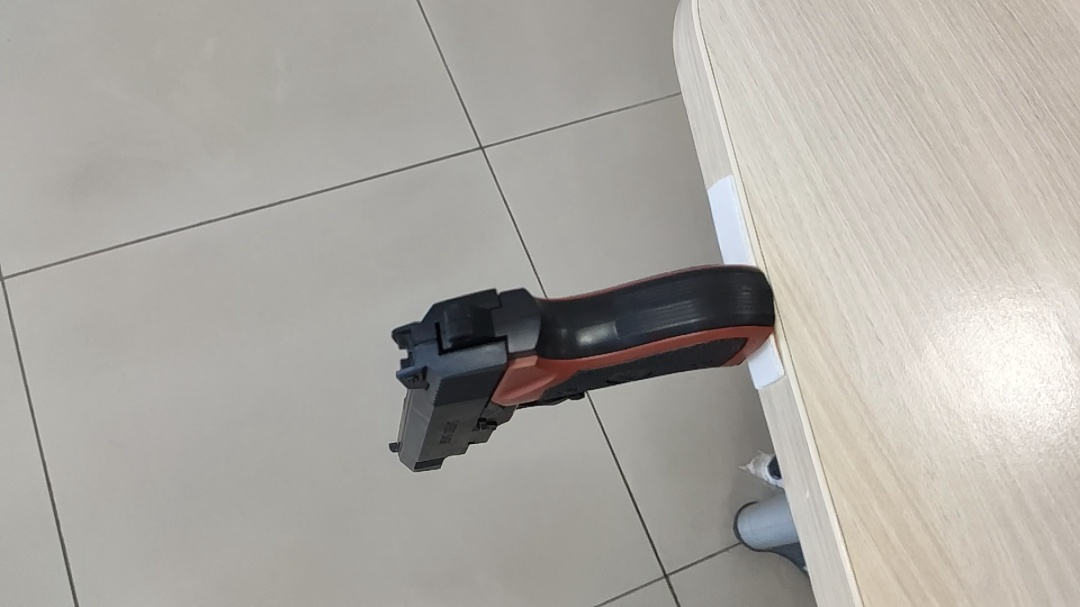gun: (360, 255, 521, 349)
